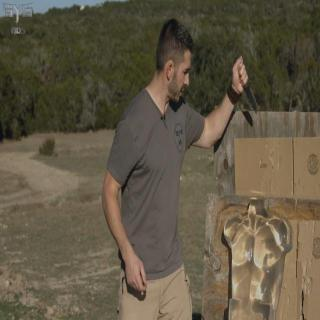knife: (233, 55, 259, 117)
